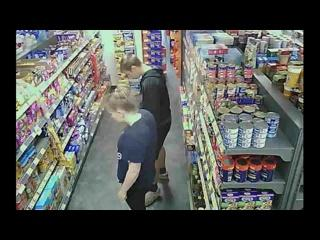Normal: (120, 53, 172, 193), (104, 88, 158, 210)
